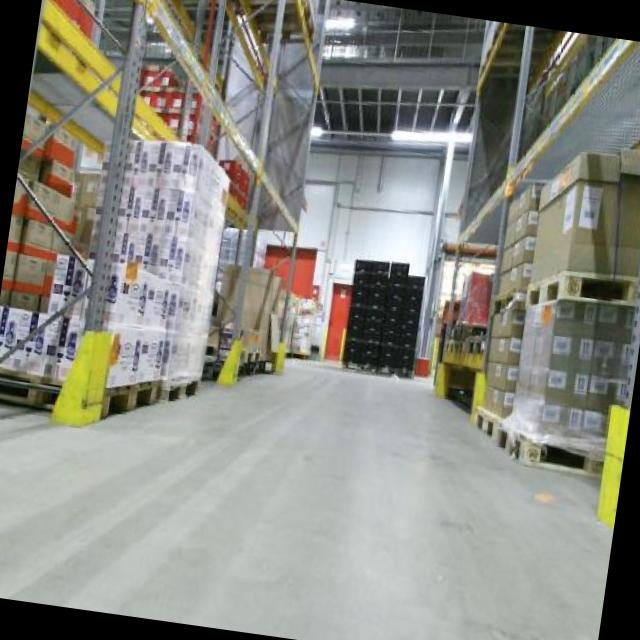pallet: (460, 400, 552, 487), (96, 368, 162, 421)
